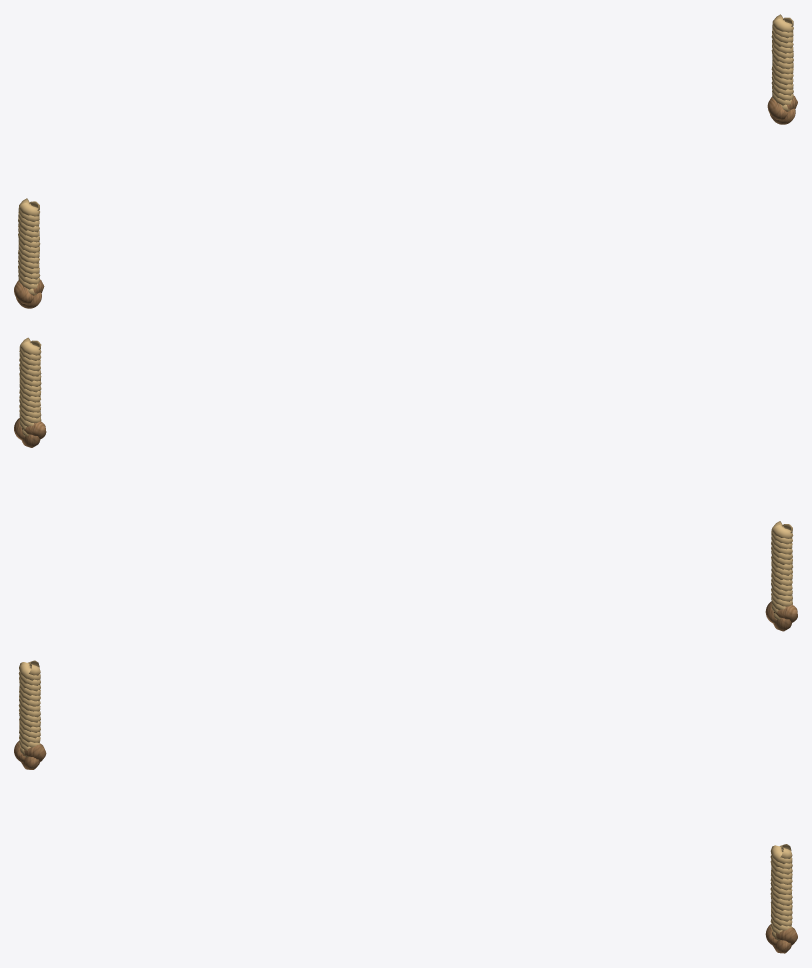
Rendered from ropes.glb.
The picture shows the model from 3 angles, top to bottom: view 1: azimuth 30°, elevation 25°; view 2: azimuth 150°, elevation 25°; view 3: azimuth 330°, elevation 25°; orthographic projection.
Parts seen in each view (by area): view 1: rope_left, rope_right, rope_right_knot, rope_left_knot; view 2: rope_right, rope_left, rope_left_knot, rope_right_knot; view 3: rope_left, rope_right, rope_right_knot, rope_left_knot.
Boxes of the visible parts, x1,y1,x2,y2 form: rope_left: (18,198,40,295); rope_right: (771,14,793,111); rope_right_knot: (767,96,797,124); rope_left_knot: (14,279,44,308); rope_right: (19,337,41,436); rope_left: (771,521,793,619); rope_left_knot: (765,601,797,631); rope_right_knot: (14,418,46,447); rope_left: (18,660,40,757); rope_right: (770,844,792,940); rope_right_knot: (765,924,797,953); rope_left_knot: (14,741,46,769).
Bounding box in the file's own units: 9.91 × 1.3 × 0.2475.
2 materials, 1 textured.
